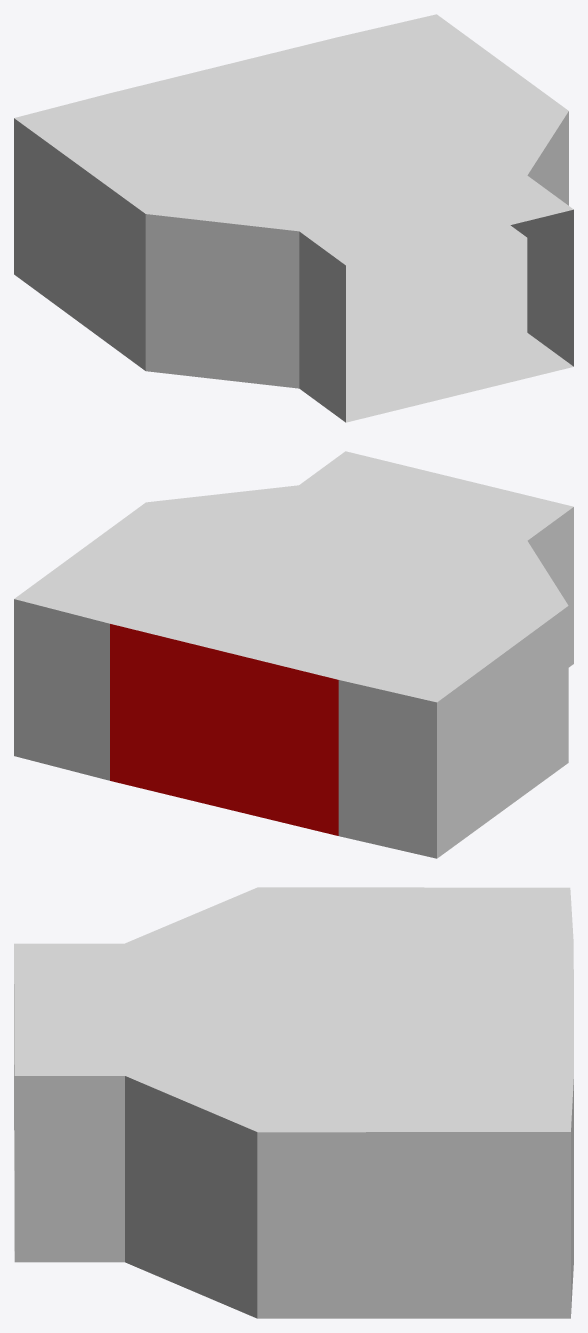
The model's file is room1_enemyspawn.gltf.
The picture shows the model from 3 angles, top to bottom: view 1: azimuth 30°, elevation 25°; view 2: azimuth 150°, elevation 25°; view 3: azimuth 270°, elevation 25°; orthographic projection. The views are drawn at different scales.
Parts seen in each view (by area): view 1: Cube; view 2: Cube; view 3: Cube.
Part boxes in pixels (x1,y1,x2,y2): Cube: (14,14,573,422); Cube: (14,451,573,858); Cube: (14,887,573,1318).
Bounding box in the file's own units: 14.81 × 5.26 × 14.31.
